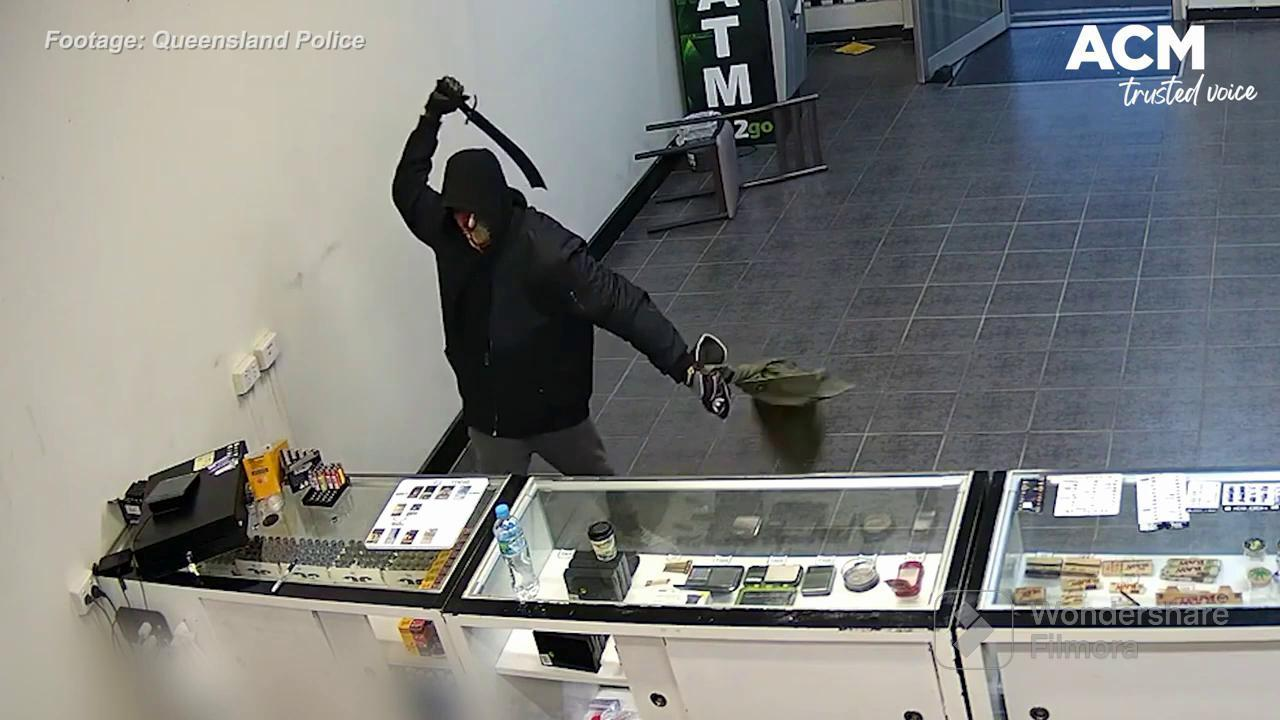melee: (462, 96, 548, 193)
